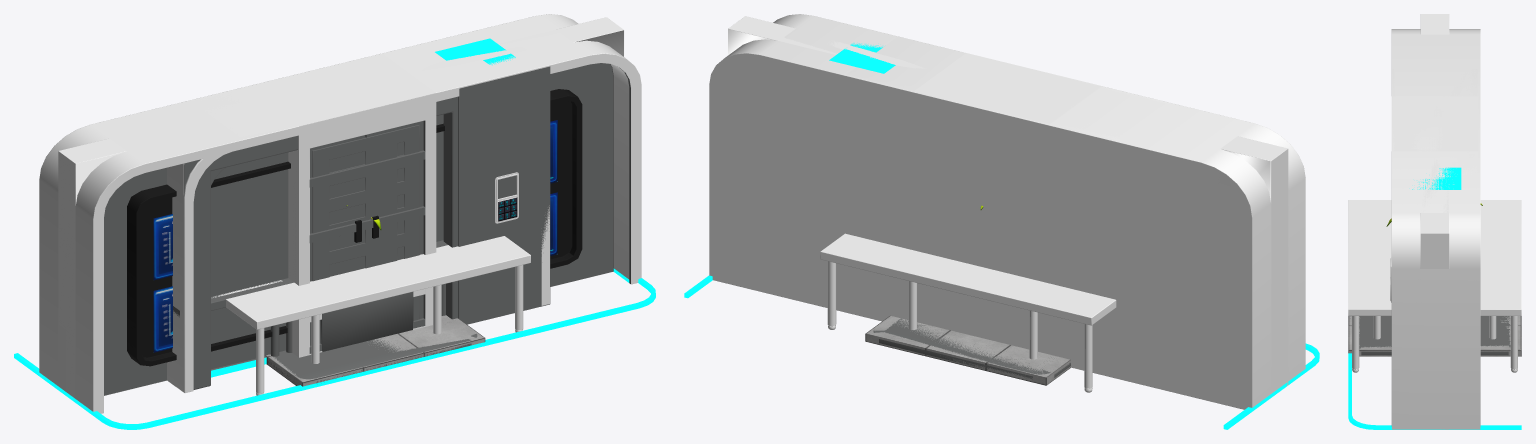
Rendered from Elevator.fbx.
3 views of the same model, side by side, from view 1: azimuth 30°, elevation 25°; view 2: azimuth 150°, elevation 25°; view 3: azimuth 270°, elevation 25° (orthographic). The views are drawn at different scales.
Visible parts, largest first — view 1: ServerWallModule, CurvedWallFacade, Elevator, FrontCounter, ServerRackTower, EntryPortalWall, MeetingTable, DisplayShelf, StorageCabinet, StraightWallPanel, LEDTrimLight, DeskBeacon (+5 smaller); view 2: CurvedWallFacade, MeetingTable, StraightWallPanel, ServerWallModule, LightGrayFloorTile, DisplayShelf, EntryPortalWall, StorageCabinet, BasePlatform, WorkingstationReturnTable, FrontCounter, LEDTrimLight; view 3: ServerWallModule, CurvedWallFacade, MeetingTable, EntryPortalWall, StraightWallPanel, DisplayShelf, WorkingstationReturnTable, StorageCabinet, BasePlatform, LightGrayFloorTile, LEDTrimLight, FrontCounter.
Boxes of the visible parts, <box> form: ServerWallModule: <box>40,15,641,413</box>; CurvedWallFacade: <box>39,14,629,410</box>; Elevator: <box>167,96,518,390</box>; FrontCounter: <box>167,38,550,386</box>; ServerRackTower: <box>299,101,435,357</box>; EntryPortalWall: <box>167,38,549,392</box>; MeetingTable: <box>226,236,530,395</box>; DisplayShelf: <box>246,54,436,357</box>; StorageCabinet: <box>273,73,433,345</box>; StraightWallPanel: <box>58,17,624,398</box>; LEDTrimLight: <box>14,278,655,429</box>; DeskBeacon: <box>320,292,413,351</box>; CurvedWallFacade: <box>709,15,1304,409</box>; MeetingTable: <box>820,233,1116,392</box>; StraightWallPanel: <box>728,16,1288,393</box>; ServerWallModule: <box>726,14,1305,400</box>; LightGrayFloorTile: <box>865,315,1070,385</box>; DisplayShelf: <box>914,53,1101,124</box>; EntryPortalWall: <box>847,36,1168,140</box>; StorageCabinet: <box>939,54,1099,105</box>; BasePlatform: <box>873,318,1070,379</box>; WorkingstationReturnTable: <box>908,258,1047,359</box>; FrontCounter: <box>829,43,895,73</box>; LEDTrimLight: <box>684,275,1319,429</box>; ServerWallModule: <box>1391,29,1477,429</box>; CurvedWallFacade: <box>1394,29,1480,429</box>; MeetingTable: <box>1348,200,1521,372</box>; EntryPortalWall: <box>1392,69,1477,178</box>; StraightWallPanel: <box>1420,14,1449,268</box>; DisplayShelf: <box>1391,96,1478,151</box>; WorkingstationReturnTable: <box>1370,227,1499,339</box>; StorageCabinet: <box>1394,96,1436,151</box>; BasePlatform: <box>1350,316,1510,355</box>; LightGrayFloorTile: <box>1348,316,1521,356</box>; LEDTrimLight: <box>1348,353,1521,429</box>; FrontCounter: <box>1412,167,1461,189</box>.
Size of the model in its own units: 360 by 150 by 120.
Materials: 11 (11 with a texture image).
